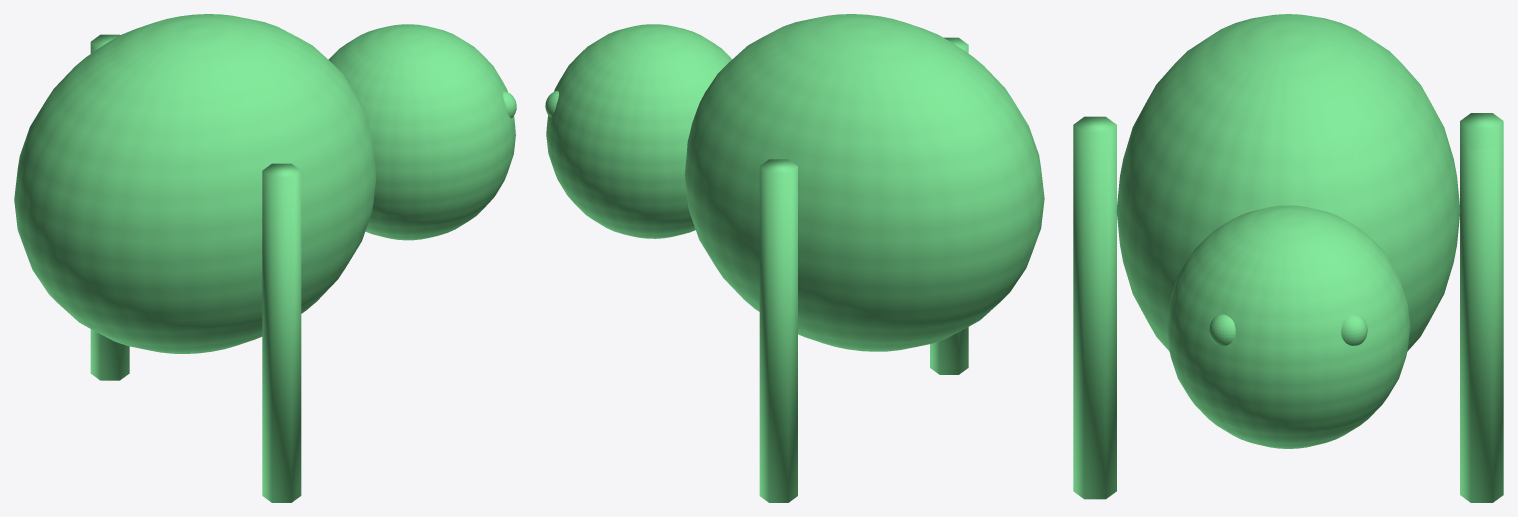
File: adhesion_bug_03.glb
3 renders of one model, left to right at view 1: azimuth 30°, elevation 25°; view 2: azimuth 150°, elevation 25°; view 3: azimuth 270°, elevation 25°, orthographic. The views are drawn at different scales.
Parts seen in each view (by area): view 1: adhesion_bug_03; view 2: adhesion_bug_03; view 3: adhesion_bug_03.
Boxes of the visible parts, x1,y1,x2,y2 form: adhesion_bug_03: (14, 14, 516, 502); adhesion_bug_03: (545, 14, 1044, 502); adhesion_bug_03: (1073, 14, 1503, 502).
Bounding box in the file's own units: 2.8 × 2.31 × 1.96.
